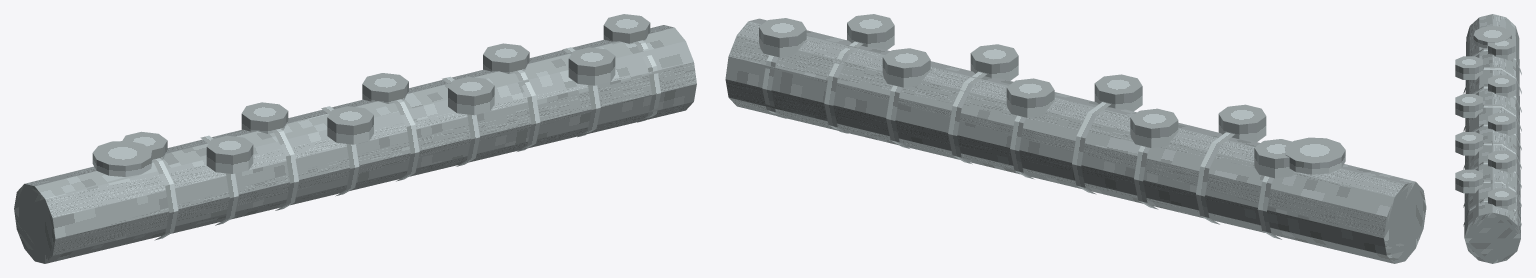
File: flute.glb
3 views of the same model, side by side, from view 1: azimuth 30°, elevation 25°; view 2: azimuth 150°, elevation 25°; view 3: azimuth 270°, elevation 25° (orthographic). The views are drawn at different scales.
Visible parts, largest first — view 1: block_long keyed instrument body, block_silver finger key (×9), block_tube ferrule (×9), block_tone hole collar; view 2: block_long keyed instrument body, block_silver finger key (×9), block_tube ferrule (×9), block_tone hole collar; view 3: block_long keyed instrument body, block_silver finger key (×9), block_tube ferrule (×9), block_tone hole collar.
Boxes of the visible parts, box(x1,y1,x2,y2) form: block_long keyed instrument body: box(14, 25, 696, 263); block_silver finger key (×9): box(122, 14, 650, 173); block_tube ferrule (×9): box(152, 40, 660, 240); block_tone hole collar: box(92, 141, 151, 176); block_long keyed instrument body: box(725, 18, 1426, 263); block_silver finger key (×9): box(759, 14, 1294, 178); block_tube ferrule (×9): box(762, 41, 1281, 239); block_tone hole collar: box(1284, 137, 1345, 174); block_long keyed instrument body: box(1464, 14, 1520, 263); block_silver finger key (×9): box(1455, 38, 1515, 210); block_tube ferrule (×9): box(1463, 48, 1521, 226); block_tone hole collar: box(1473, 26, 1511, 48).
Bounding box in the file's own units: 0.66 × 0.0879 × 0.0926.
1 material, 1 textured.
